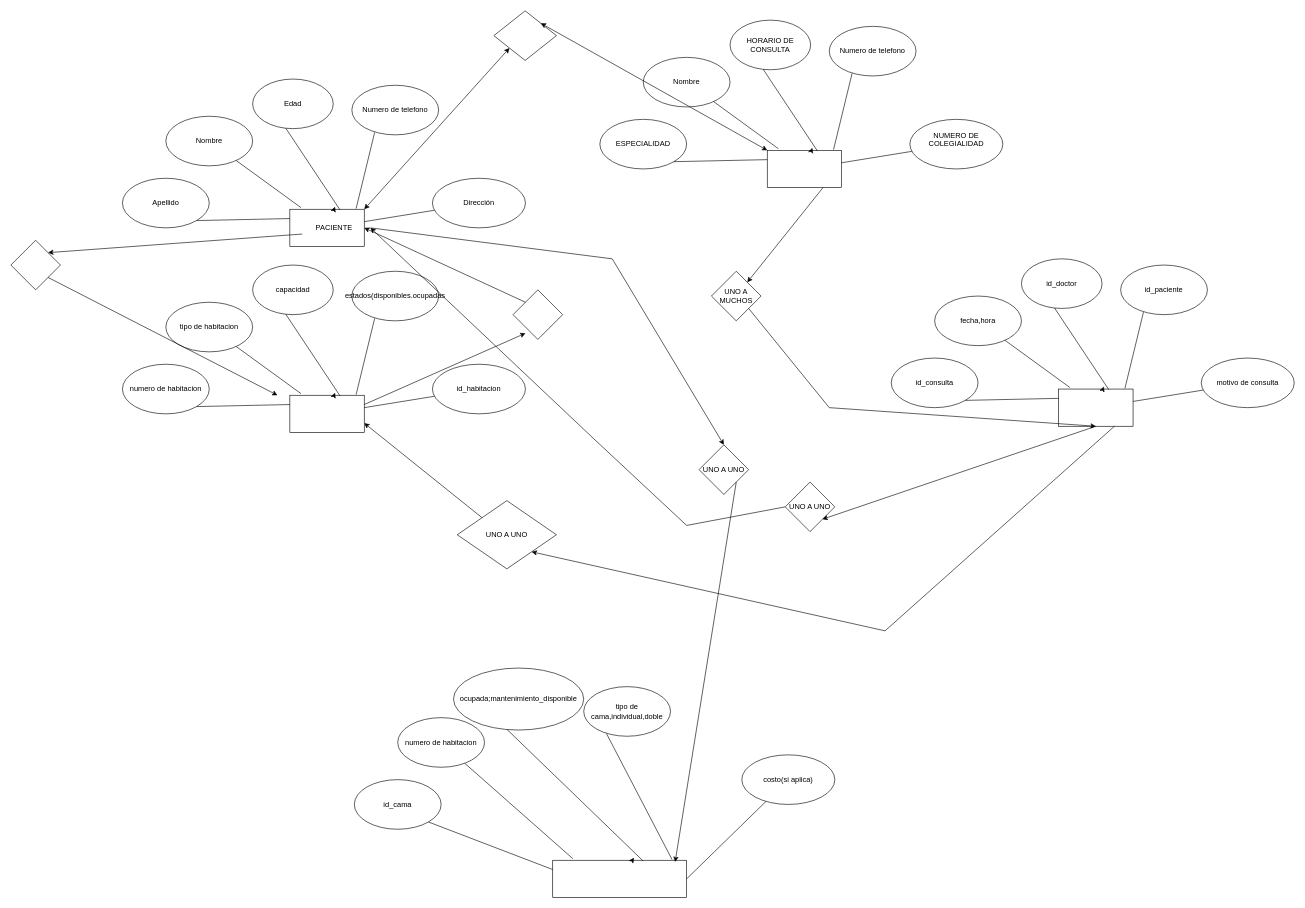
This 1305x908 diagram has some shape labels left out. Here are the shapes that lost their labels. From the top down, the centre of each, then its label:
At pixel 524 35: "MUCHOS A MUCHOS".
At pixel 804 169: "DOCTOR".
At pixel 35 265: "ASIGNADO".
At pixel 537 314: "VARIOS".
At pixel 326 413: "Habitacion".
At pixel 1095 407: "consulta".
At pixel 619 878: "cama".
